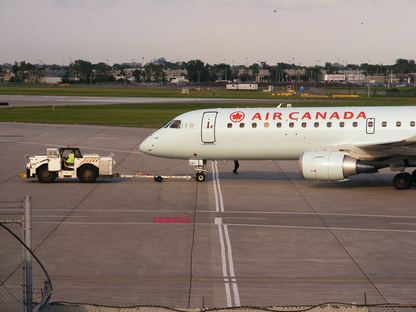truck: (23, 142, 114, 183)
